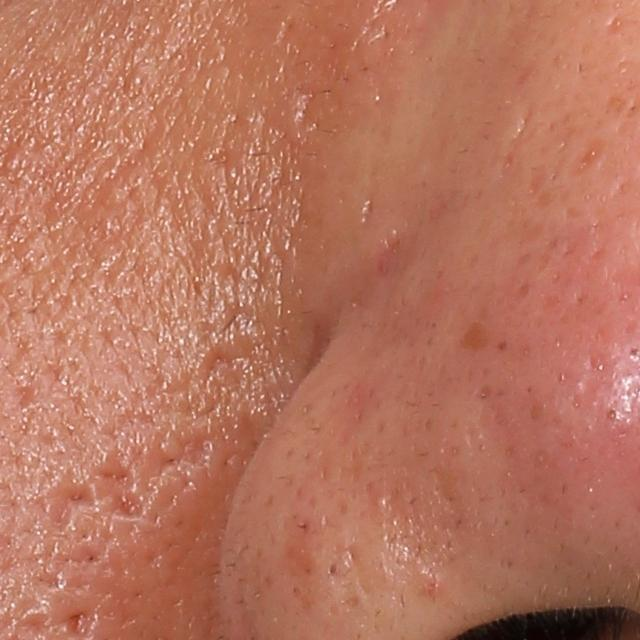atrophic_scar: (40, 414, 229, 531), (494, 96, 535, 178), (198, 344, 254, 385), (575, 140, 603, 178), (602, 17, 626, 40)
melasma: (456, 321, 489, 350)
